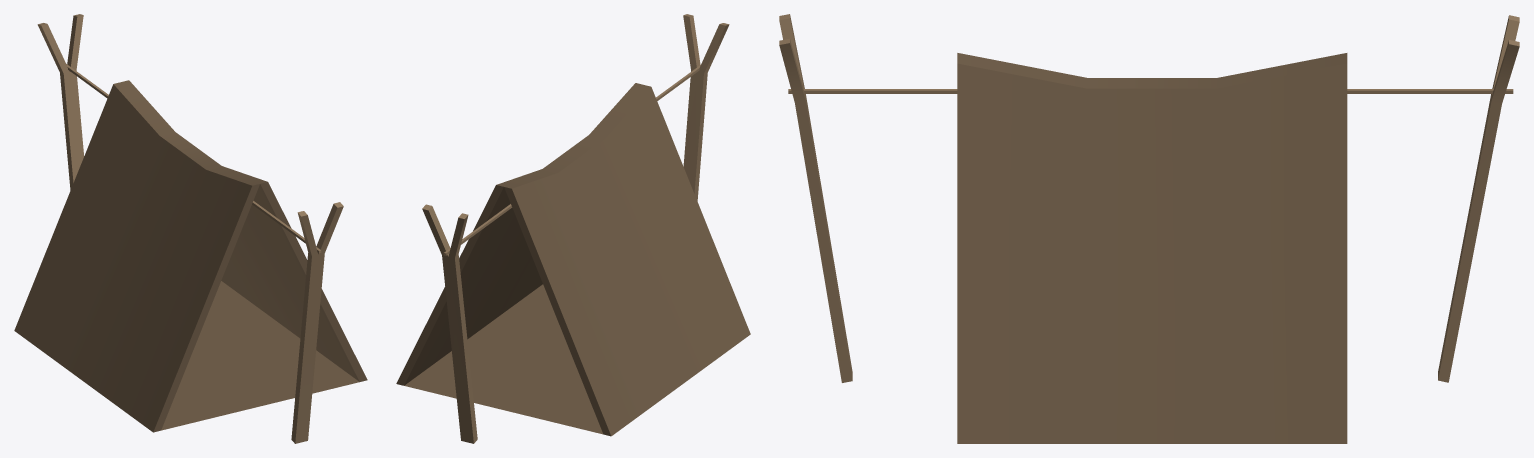
The model's file is env_Tent.fbx.
The picture shows the model from 3 angles, left to right: view 1: azimuth 30°, elevation 25°; view 2: azimuth 150°, elevation 25°; view 3: azimuth 270°, elevation 25°; orthographic projection. The views are drawn at different scales.
Visible parts, largest first — view 1: env_Tent_01; view 2: env_Tent_01; view 3: env_Tent_01.
Part boxes in pixels (left/top/right/bottom): env_Tent_01: left=14, top=14, right=367, bottom=443; env_Tent_01: left=396, top=14, right=750, bottom=443; env_Tent_01: left=779, top=14, right=1519, bottom=443.
Size of the model in its own units: 198 by 220 by 422.
